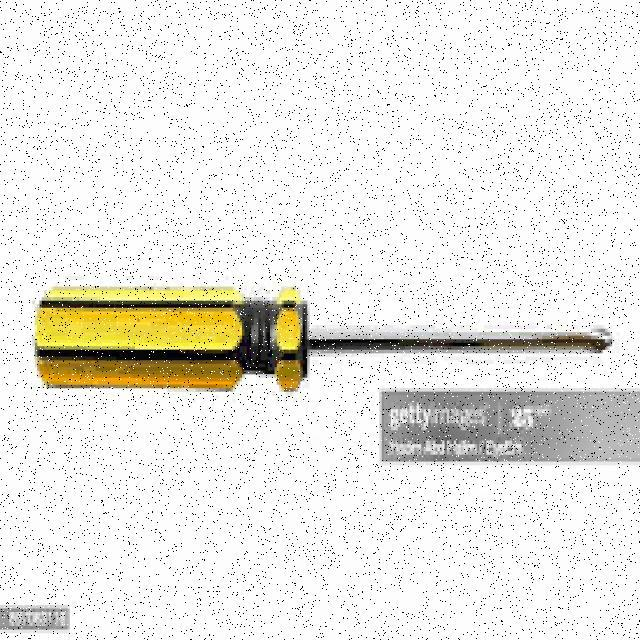screwdriver: (38, 290, 613, 390)
